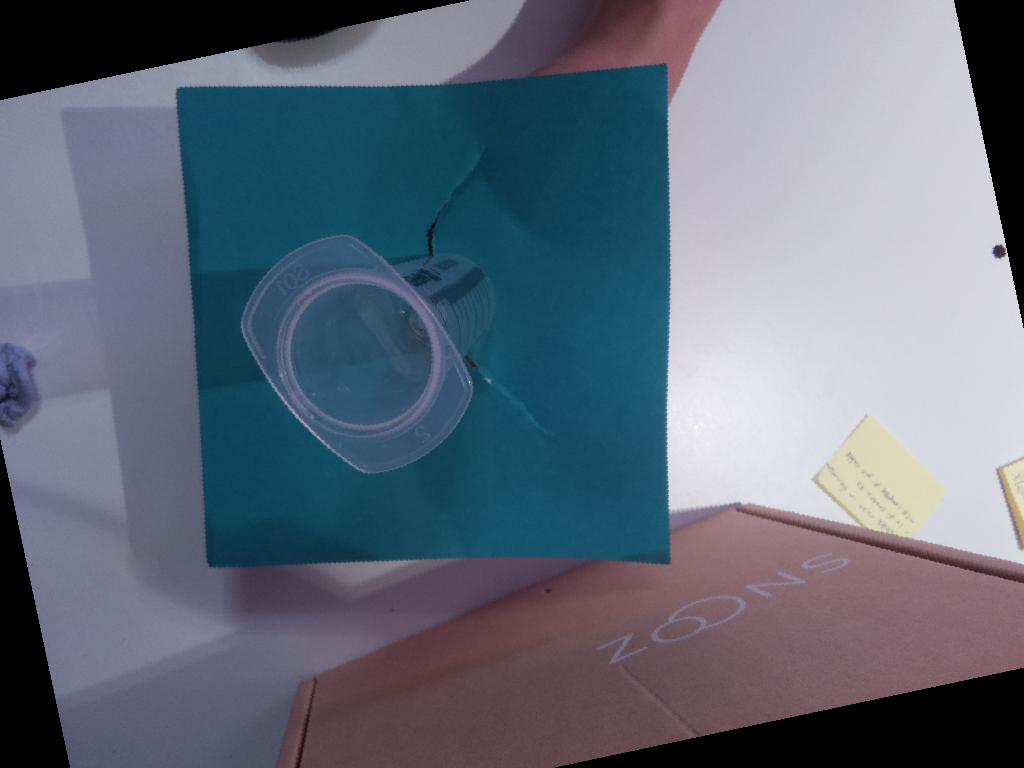clean: (236, 232, 476, 478)
